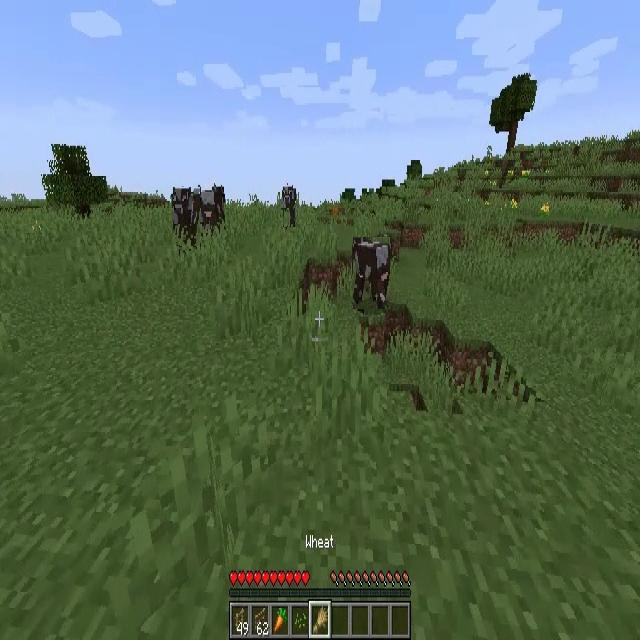cow: (353, 237, 390, 309), (173, 187, 200, 246), (199, 183, 224, 235), (281, 185, 299, 227)
flower: (542, 204, 549, 216)
